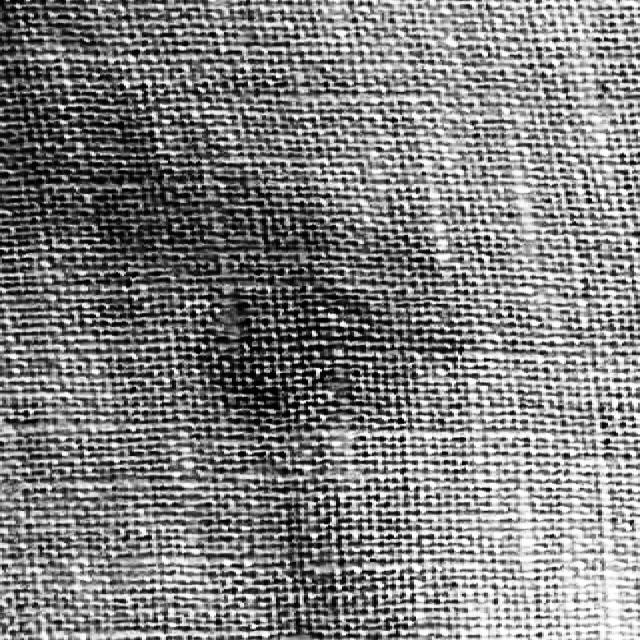Color_defect: (180, 254, 466, 444)
